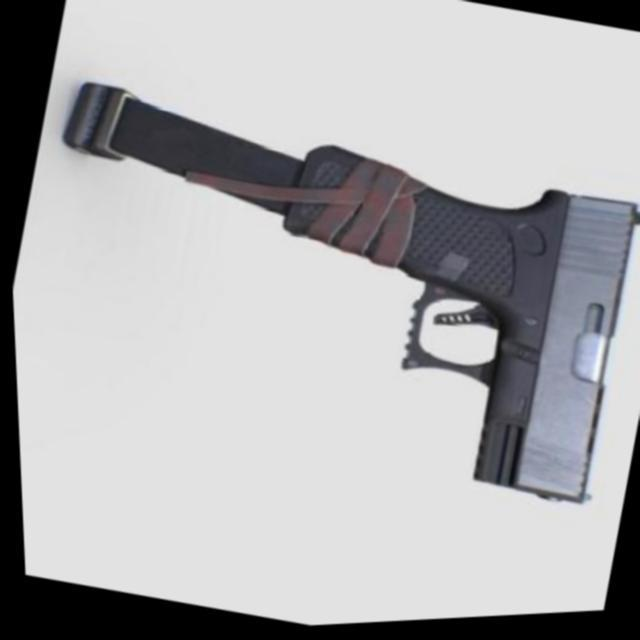weapon: (3, 53, 640, 536)
